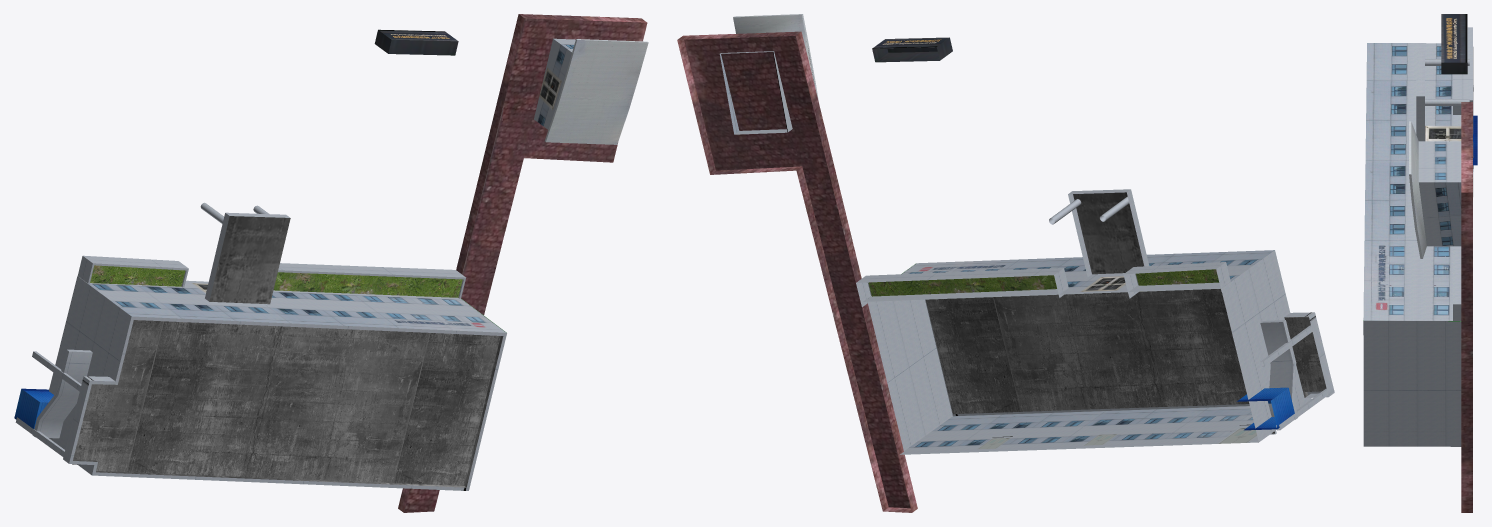
File: building_p5_04.fbx
The picture shows the model from 3 angles, left to right: view 1: azimuth 30°, elevation 25°; view 2: azimuth 150°, elevation 25°; view 3: azimuth 270°, elevation 25°; orthographic projection. The views are drawn at different scales.
Visible parts, largest first — view 1: Building_P5_04; view 2: Building_P5_04; view 3: Building_P5_04.
Part boxes in pixels (left/top/right/bottom): Building_P5_04: left=14, top=14, right=648, bottom=512; Building_P5_04: left=677, top=14, right=1334, bottom=512; Building_P5_04: left=1363, top=14, right=1477, bottom=512.
Size of the model in its own units: 6804 by 5104 by 1113.
